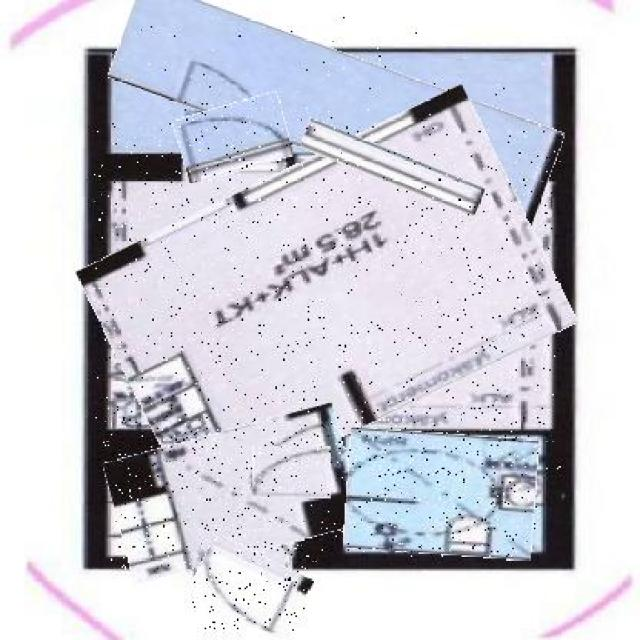door: (194, 544, 311, 630), (177, 98, 291, 177), (252, 448, 331, 500)
window: (299, 135, 486, 200)
zone: (94, 125, 560, 469), (111, 16, 563, 192), (109, 417, 357, 569), (346, 431, 537, 557)
